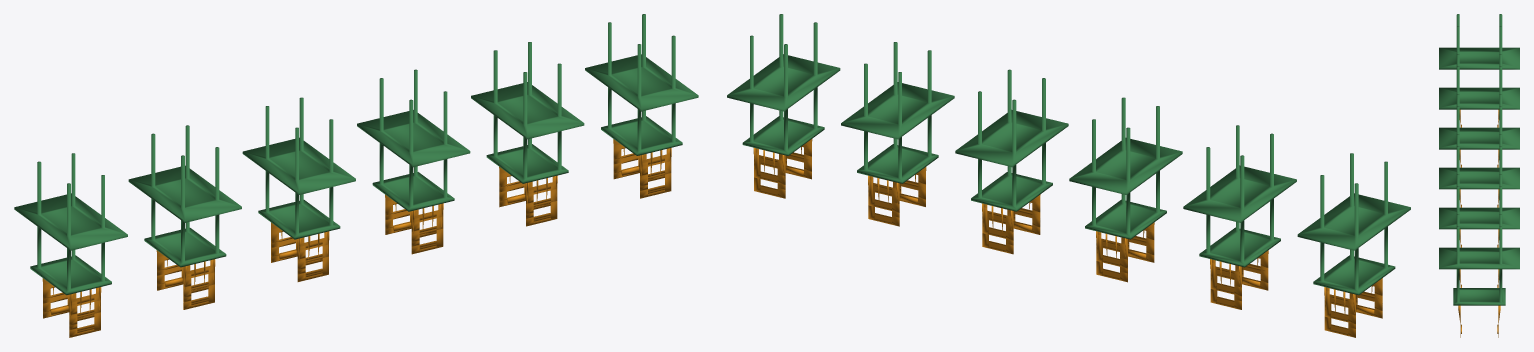
The model's file is 整体夹具.obj.
3 renders of one model, left to right at view 1: azimuth 30°, elevation 25°; view 2: azimuth 150°, elevation 25°; view 3: azimuth 270°, elevation 25°, orthographic. The views are drawn at different scales.
Bounding box in the file's own units: 11001 × 2606 × 1710.
